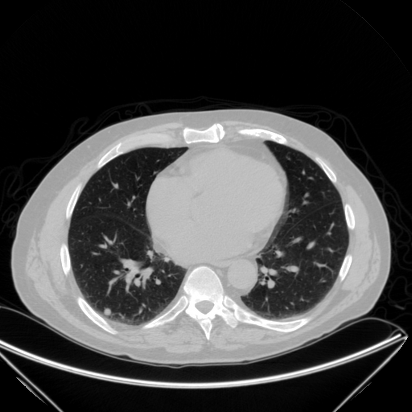nodule: (103, 308, 111, 316)
